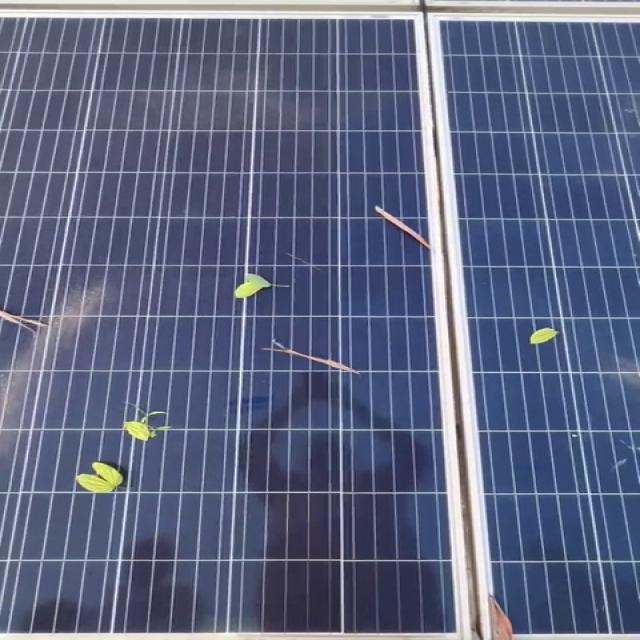dust_partical: (148, 73, 384, 148), (13, 339, 55, 400)
old_leaf: (218, 262, 362, 387), (52, 420, 198, 497), (363, 200, 505, 249), (525, 317, 577, 355)
